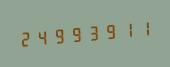four: (34, 24, 50, 49)
nine: (51, 22, 67, 48), (68, 21, 84, 47), (102, 18, 118, 44)
one: (136, 15, 152, 41), (119, 17, 135, 42)
three: (85, 20, 101, 45)
two: (17, 25, 33, 51)
